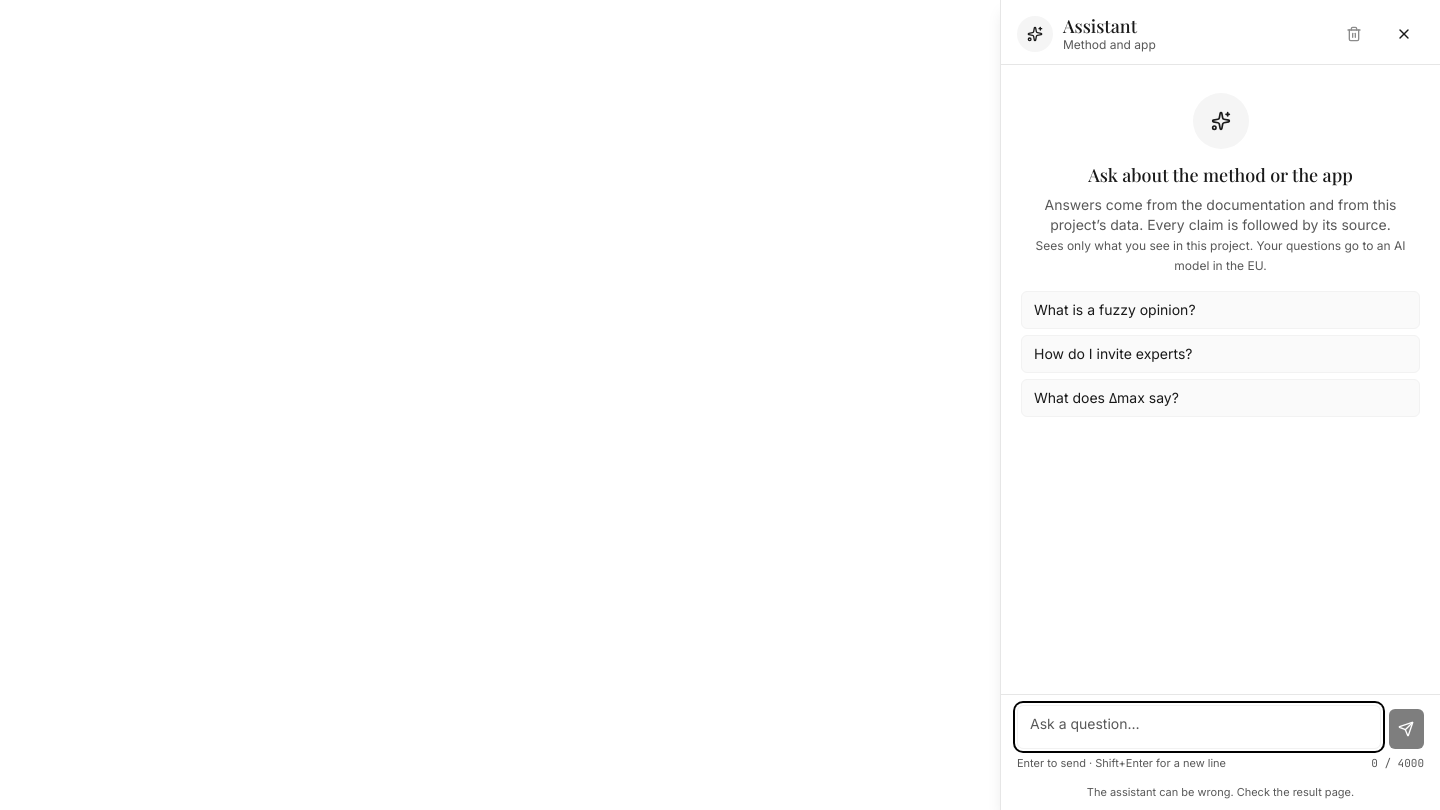
Scenario: AssistantPanel with the chat hook › sends the typed question on Enter and shows the question and the answer
Type "What is it?" into the text box labelled "Ask a question…" at point(1199, 727), box [1017,705,1381,749]
Then press Enter
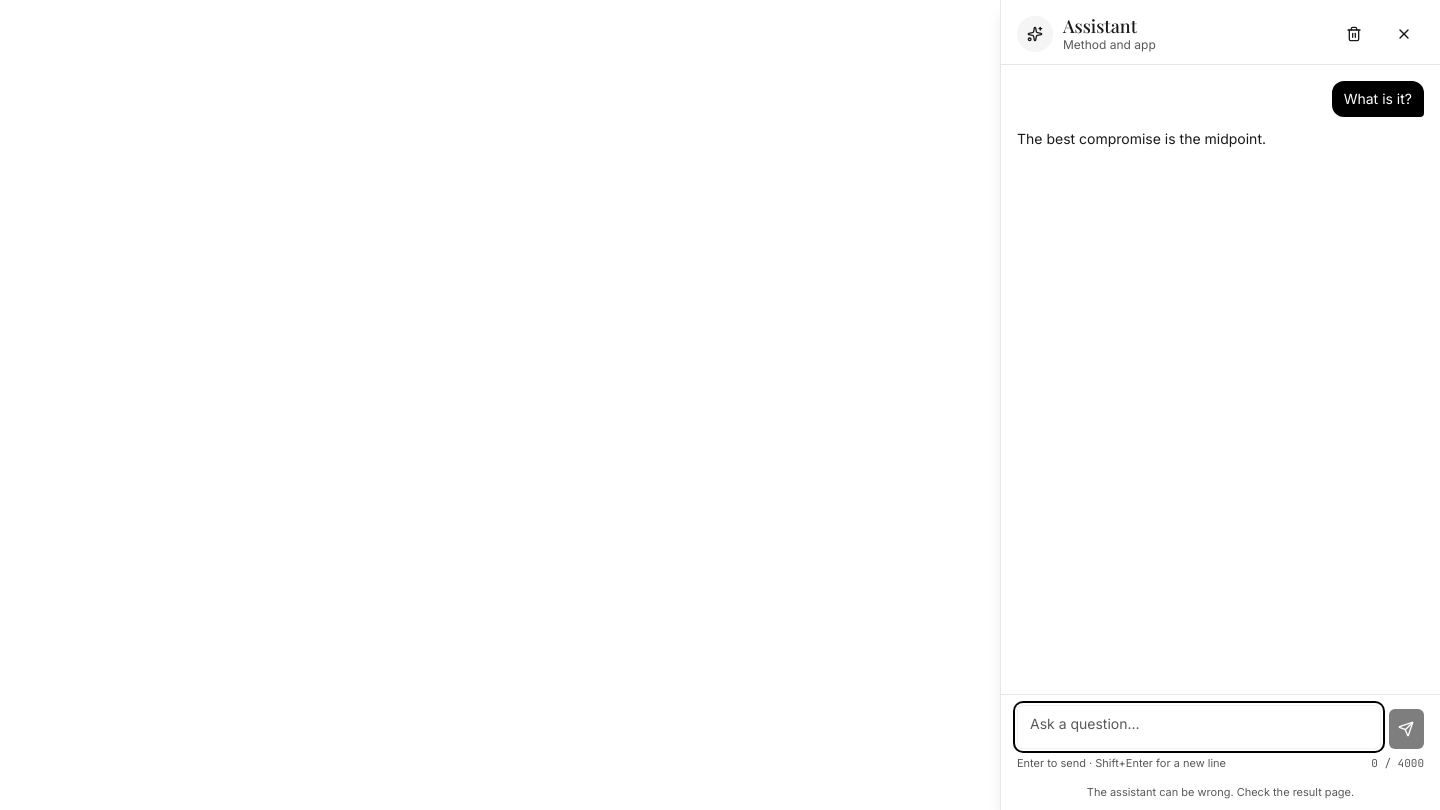
Expected: the text "The best compromise is the midpoint." is shown, [1017,130,1266,147]
Expected: the element showing "What is it? The best compromise is the midpoint." is shown, [1017,81,1424,147]
